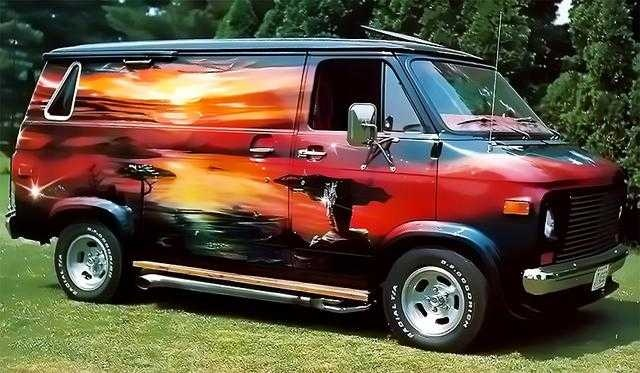van: (6, 37, 628, 355)
